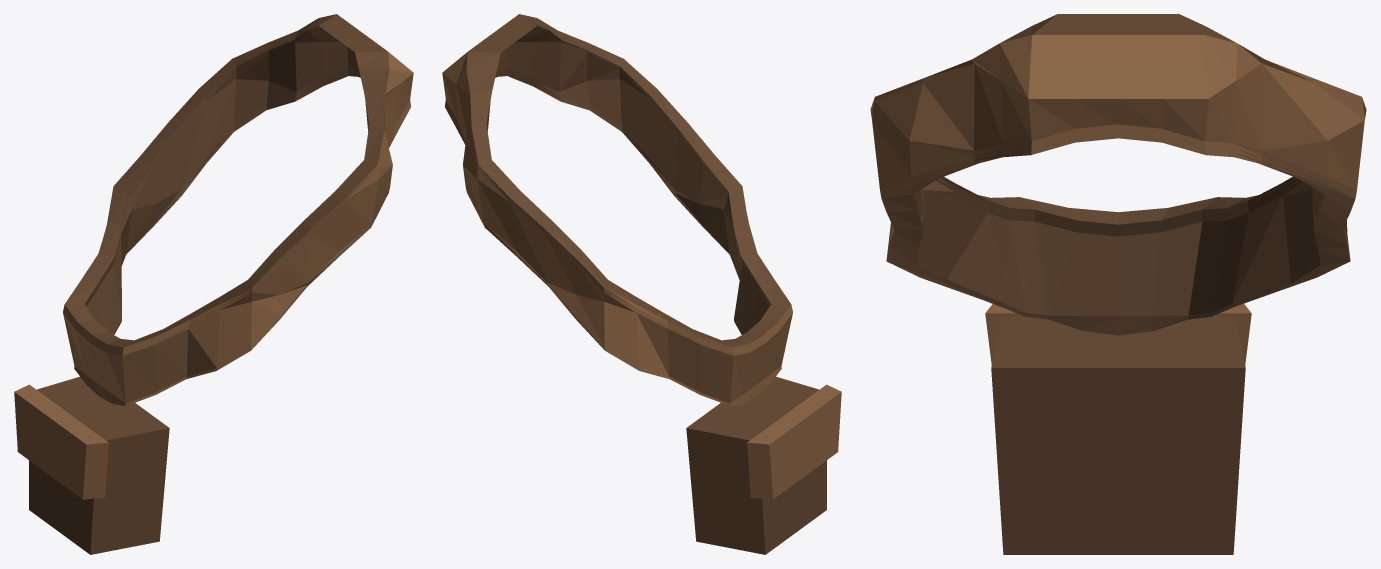
Rendered from person_female_bandolier_overvest.obj.
The picture shows the model from 3 angles, left to right: view 1: azimuth 30°, elevation 25°; view 2: azimuth 150°, elevation 25°; view 3: azimuth 270°, elevation 25°; orthographic projection. The views are drawn at different scales.
Bounding box in the file's own units: 0.5376 × 0.65 × 0.4094.
